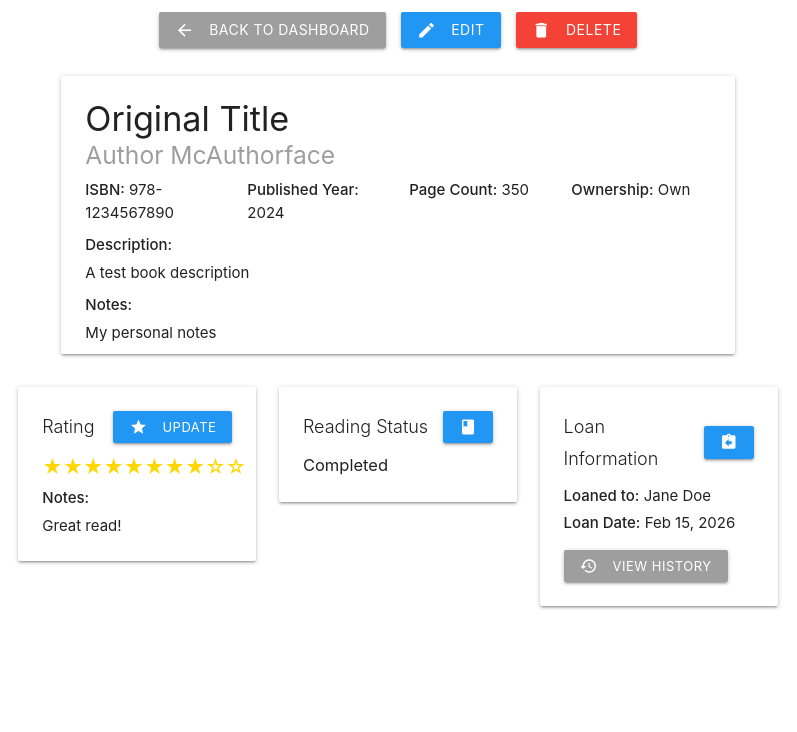
Test case: BookDetails Page › Integration Tests › Edit Mode › should revert changes when Cancel button is clicked
The image size is (797, 732).
Expected: the heading "Original Title" is shown, [85, 98, 289, 138]
Click the button "Edit": (451, 30) [401, 12, 500, 48]
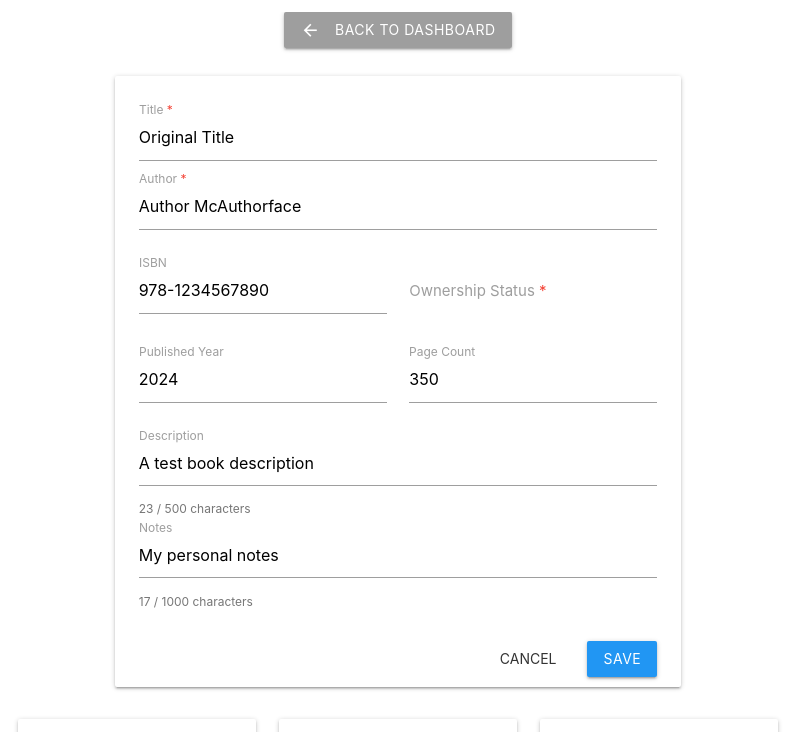
Replace the text in the field labelled "Title *" with "Modified Title": (398, 138) [139, 114, 657, 160]
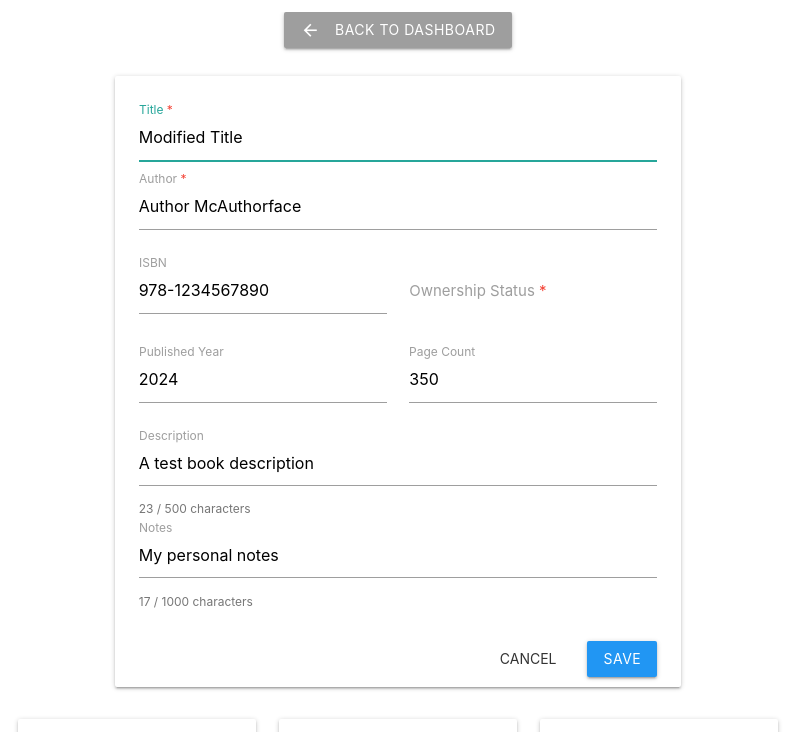
# Get all Cancel buttons and click the one that's NOT disabled (the form Cancel button)
Click the button "Cancel": (528, 658) [484, 640, 572, 676]
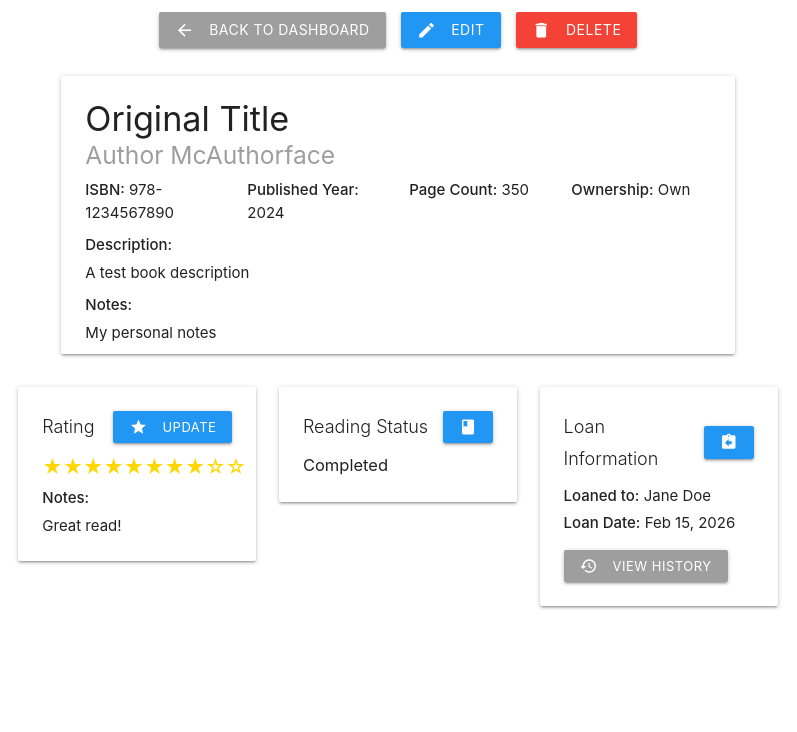
Expected: the field labelled "Title *" is not shown
Now the heading "Original Title" is shown, box [85, 98, 289, 138]
